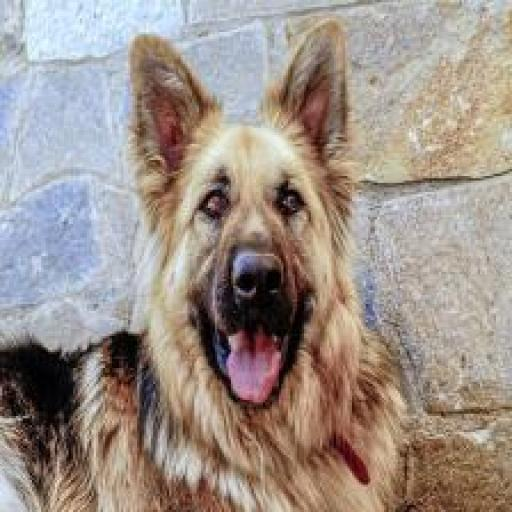wolf: (0, 18, 409, 510)
